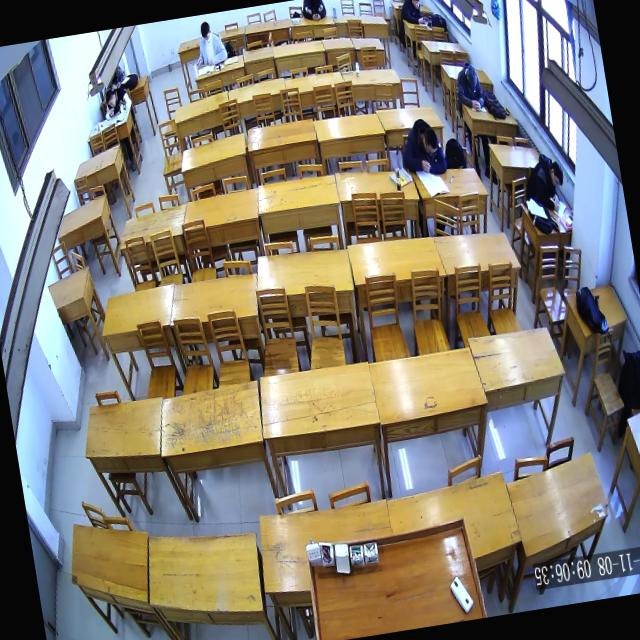bow: (396, 116, 448, 180), (102, 86, 134, 120)
down: (422, 128, 439, 156), (548, 160, 565, 188), (465, 64, 479, 88), (200, 21, 212, 44), (104, 89, 118, 108), (410, 0, 421, 10)
sit: (524, 152, 568, 214), (190, 19, 229, 69), (454, 62, 486, 115), (399, 0, 427, 27)
